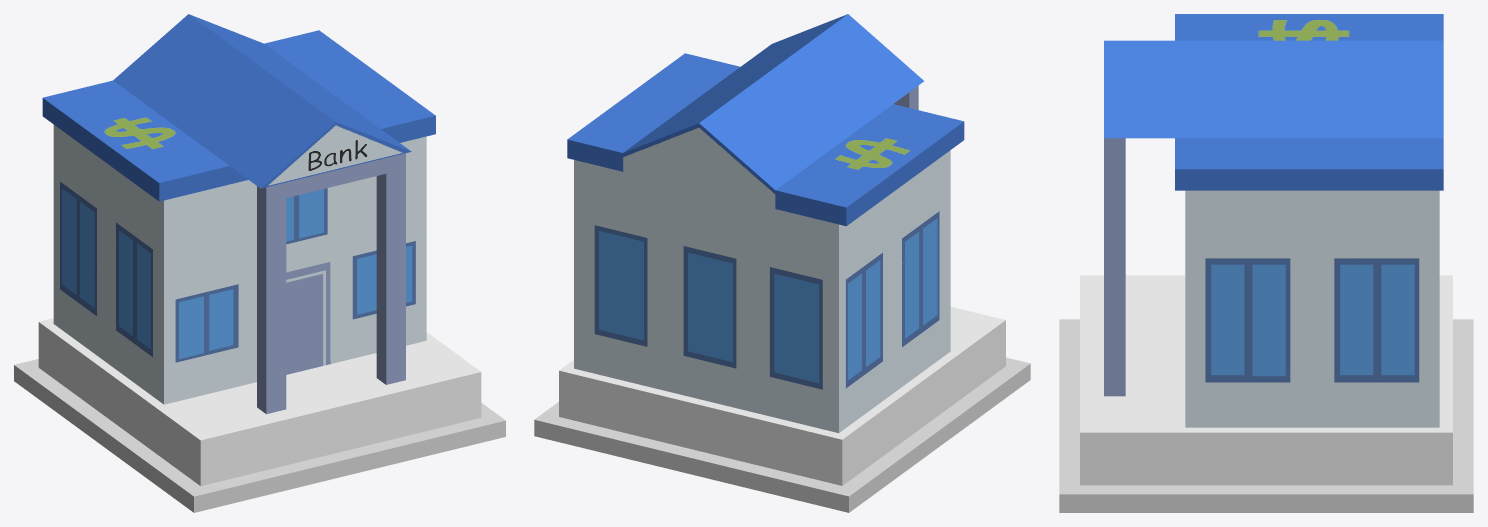
Rendered from Bank03_1.FBX.
3 renders of one model, left to right at view 1: azimuth 30°, elevation 25°; view 2: azimuth 150°, elevation 25°; view 3: azimuth 270°, elevation 25°, orthographic. The views are drawn at different scales.
Visible parts, largest first — view 1: Box002, Box001; view 2: Box002, Box001; view 3: Box002, Box001.
Boxes of the visible parts, x1=… form: Box002: x1=38, y1=14, x2=481, y2=485; Box001: x1=14, y1=359, x2=505, y2=512; Box002: x1=559, y1=14, x2=1005, y2=485; Box001: x1=534, y1=357, x2=1030, y2=512; Box002: x1=1080, y1=14, x2=1452, y2=485; Box001: x1=1059, y1=319, x2=1473, y2=512.
Bounding box in the file's own units: 1 × 1.03 × 1.
4 materials, 4 textured.
